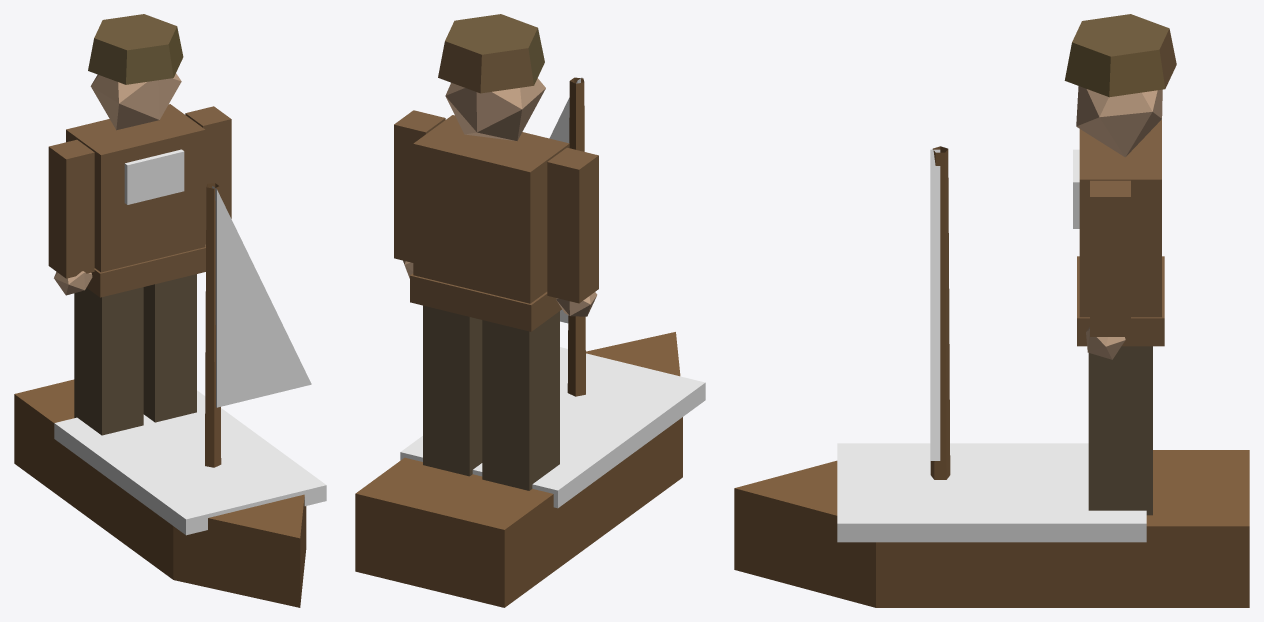
The model's file is Work Boats.glb.
3 views of the same model, side by side, from view 1: azimuth 30°, elevation 25°; view 2: azimuth 150°, elevation 25°; view 3: azimuth 270°, elevation 25° (orthographic). The views are drawn at different scales.
Parts seen in each view (by area): view 1: Units_Work Boats; view 2: Units_Work Boats; view 3: Units_Work Boats.
Boxes of the visible parts, x1,y1,x2,y2 form: Units_Work Boats: [14, 14, 326, 607]; Units_Work Boats: [355, 14, 705, 607]; Units_Work Boats: [734, 14, 1249, 607].
Bounding box in the file's own units: 0.0949 × 0.229 × 0.2.
